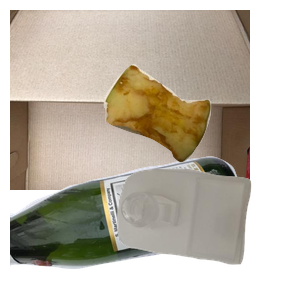cardboard: (10, 10, 250, 190)
glass: (10, 154, 246, 300)
plastic: (115, 166, 300, 300)
trash: (101, 62, 300, 217)
